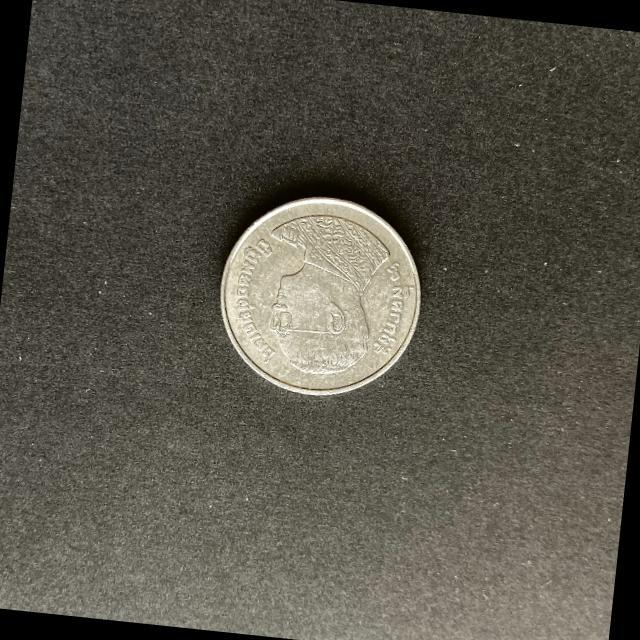1 Bath: (221, 193, 425, 398)
